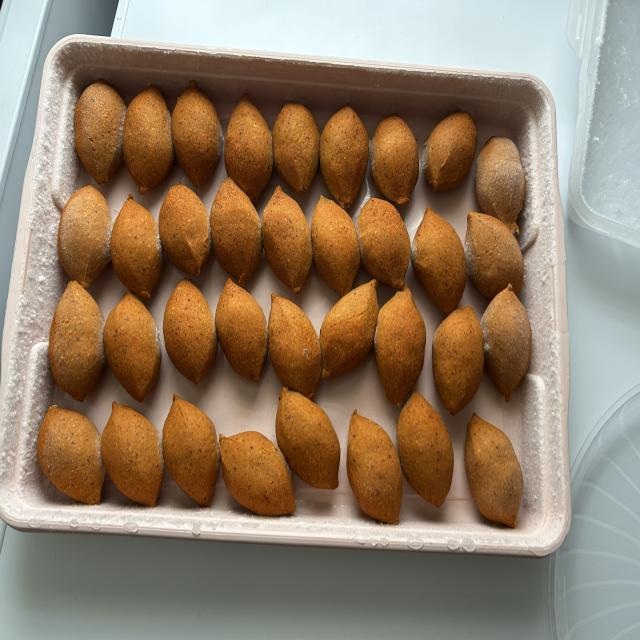kobi: (275, 385, 343, 489), (479, 278, 534, 406), (161, 392, 223, 503), (465, 416, 524, 529), (49, 284, 104, 402), (106, 289, 160, 404), (106, 404, 166, 507), (216, 434, 294, 513), (324, 282, 382, 386), (466, 206, 530, 298), (262, 190, 319, 293), (59, 178, 112, 288), (41, 404, 103, 498), (476, 137, 534, 237), (110, 200, 166, 303), (273, 282, 323, 397), (348, 416, 401, 524), (76, 74, 126, 187), (213, 174, 264, 284), (165, 280, 216, 390), (398, 396, 448, 505), (437, 302, 484, 417), (308, 189, 360, 291), (122, 86, 172, 192), (373, 109, 425, 210), (218, 270, 262, 388), (159, 179, 214, 271), (275, 99, 324, 198), (227, 94, 271, 200), (381, 293, 421, 409), (360, 190, 407, 286), (419, 110, 479, 184), (420, 210, 467, 304), (322, 108, 370, 199), (178, 90, 223, 178)
